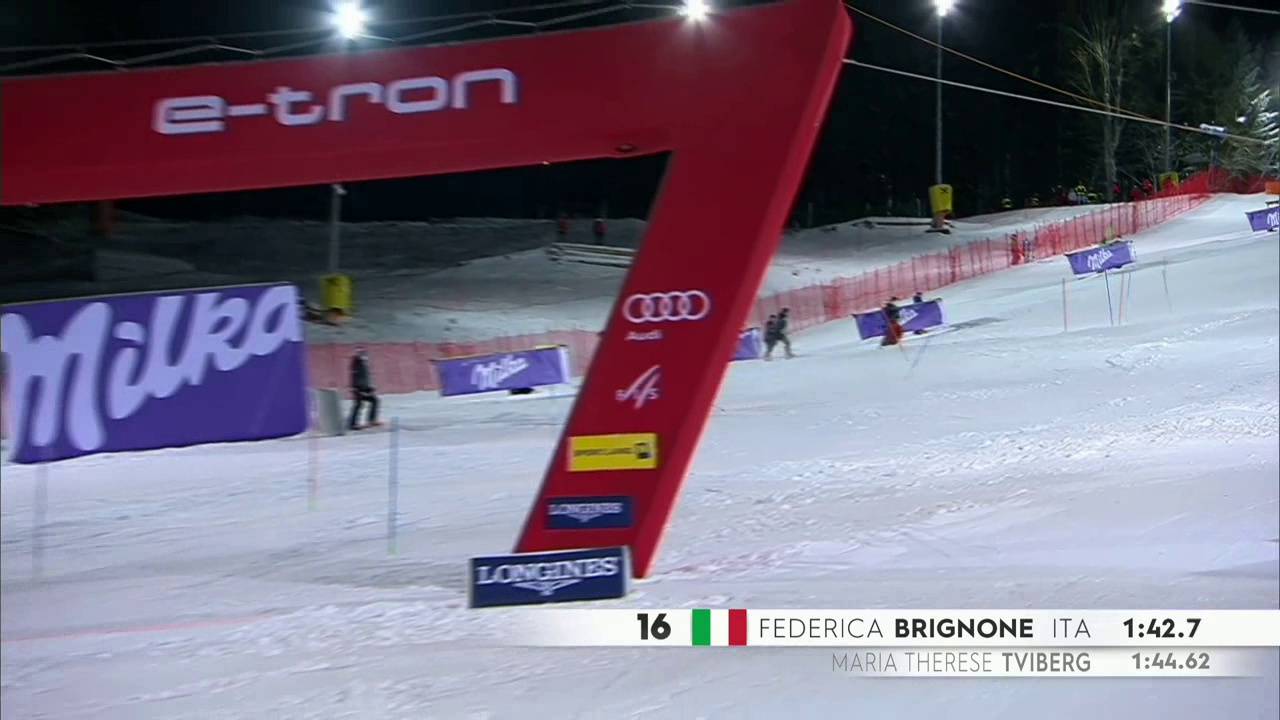audi: (610, 289, 722, 330)
etron: (171, 59, 516, 149)
longines: (473, 549, 627, 607), (544, 496, 636, 527)
milka: (1, 285, 320, 478)
